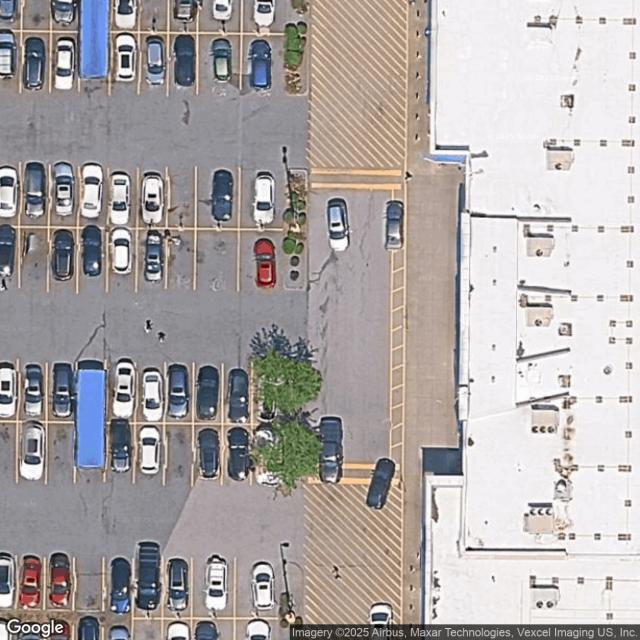objects: (76, 363, 105, 479), (282, 363, 304, 486), (82, 0, 110, 93), (286, 168, 307, 290), (286, 1, 308, 94), (0, 610, 131, 622)
stall: (235, 551, 279, 619), (240, 167, 284, 230), (193, 551, 235, 617), (240, 229, 285, 290), (241, 34, 286, 94), (198, 166, 239, 229), (196, 230, 238, 290), (199, 33, 241, 91), (162, 549, 192, 619), (251, 363, 283, 424), (103, 550, 134, 612), (134, 552, 163, 618), (253, 425, 284, 486), (168, 33, 198, 94), (110, 32, 140, 93), (78, 228, 108, 289), (48, 166, 78, 226), (74, 550, 104, 610), (167, 167, 196, 228), (51, 31, 80, 92), (140, 32, 169, 93), (20, 227, 49, 288), (167, 228, 196, 289), (107, 229, 136, 290), (106, 423, 135, 484), (109, 167, 138, 227), (138, 168, 167, 228), (77, 166, 106, 226), (108, 362, 137, 422), (164, 424, 193, 484), (47, 362, 76, 422), (136, 424, 164, 485), (22, 32, 50, 92), (48, 228, 76, 288), (20, 165, 48, 225), (136, 362, 164, 422), (138, 228, 166, 288), (46, 422, 74, 482), (46, 551, 74, 611), (19, 361, 46, 422), (195, 363, 222, 424), (224, 363, 251, 423), (18, 422, 45, 482), (17, 552, 45, 609), (167, 363, 193, 424), (225, 424, 251, 485), (194, 425, 220, 485), (242, 0, 285, 34), (199, 0, 241, 33), (0, 227, 19, 289), (0, 360, 19, 422), (0, 32, 20, 90), (0, 165, 19, 226), (192, 616, 234, 640), (1, 421, 17, 482), (234, 618, 278, 640), (168, 0, 197, 32), (0, 552, 16, 610), (140, 0, 168, 32), (22, 0, 50, 30), (52, 0, 79, 31), (112, 0, 138, 30), (0, 0, 21, 32), (135, 616, 163, 640), (162, 617, 192, 639), (103, 623, 133, 640), (73, 624, 102, 640), (18, 623, 45, 640), (45, 623, 73, 639)
